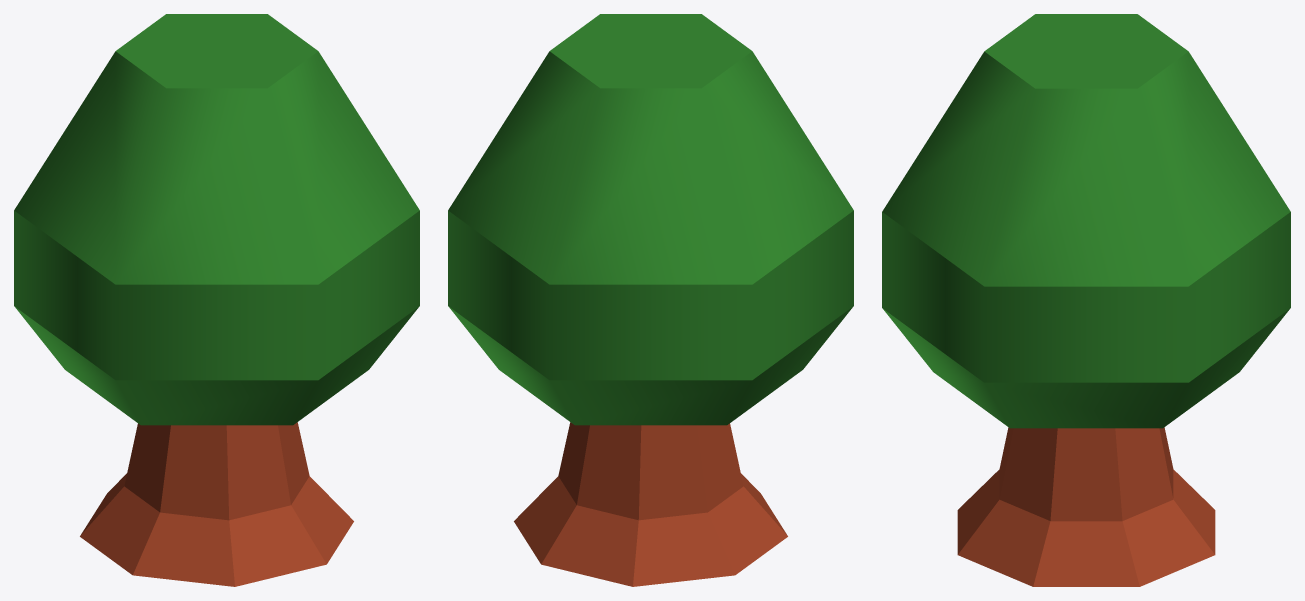
File: Folliage 2.obj
3 views of the same model, side by side, from view 1: azimuth 30°, elevation 25°; view 2: azimuth 150°, elevation 25°; view 3: azimuth 270°, elevation 25° (orthographic).
Parts seen in each view (by area): view 1: mergedBlocks; view 2: mergedBlocks; view 3: mergedBlocks.
Part boxes in pixels (x1=…): mergedBlocks: x1=14, y1=14, x2=419, y2=586; mergedBlocks: x1=448, y1=14, x2=853, y2=586; mergedBlocks: x1=882, y1=14, x2=1290, y2=586.
Size of the model in its own units: 1 by 1.5 by 1.15.
